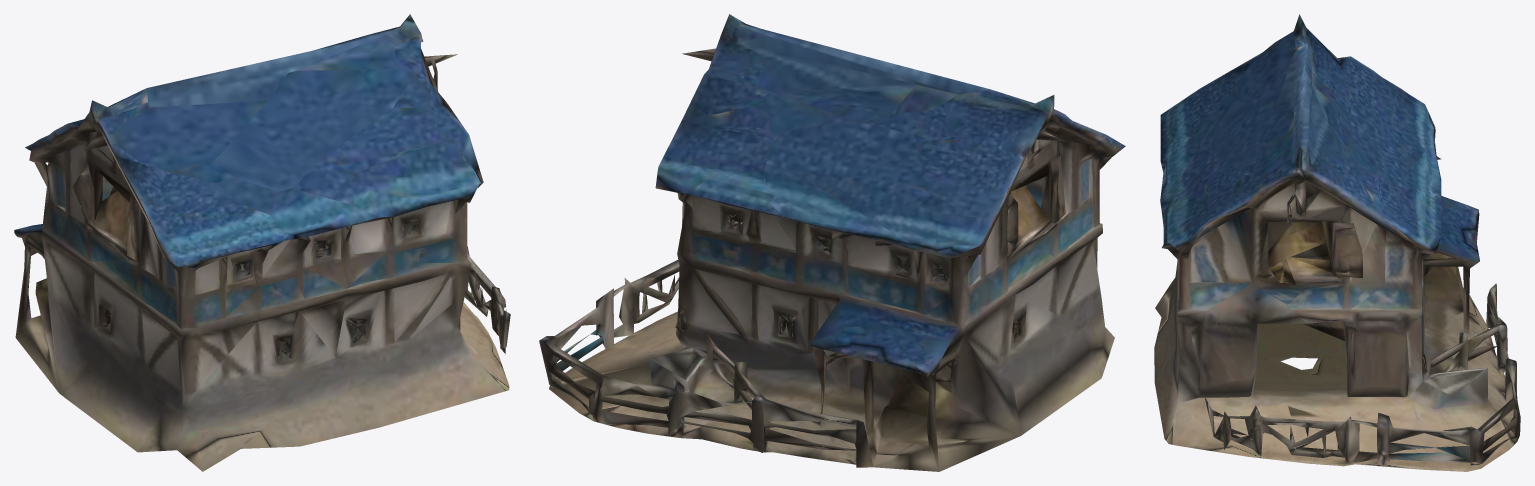
The model's file is barn_1.glb.
The picture shows the model from 3 angles, left to right: view 1: azimuth 30°, elevation 25°; view 2: azimuth 150°, elevation 25°; view 3: azimuth 270°, elevation 25°; orthographic projection. The views are drawn at different scales.
Visible parts, largest first — view 1: tripo_node_0d368b60-aa32-46e5-8863-0528361dc7d8; view 2: tripo_node_0d368b60-aa32-46e5-8863-0528361dc7d8; view 3: tripo_node_0d368b60-aa32-46e5-8863-0528361dc7d8.
Boxes of the visible parts, x1,y1,x2,y2 form: tripo_node_0d368b60-aa32-46e5-8863-0528361dc7d8: (14, 14, 510, 471); tripo_node_0d368b60-aa32-46e5-8863-0528361dc7d8: (539, 14, 1125, 471); tripo_node_0d368b60-aa32-46e5-8863-0528361dc7d8: (1154, 14, 1520, 471).
Bounding box in the file's own units: 0.9792 × 0.7167 × 0.8304.
1 material, 1 textured.
